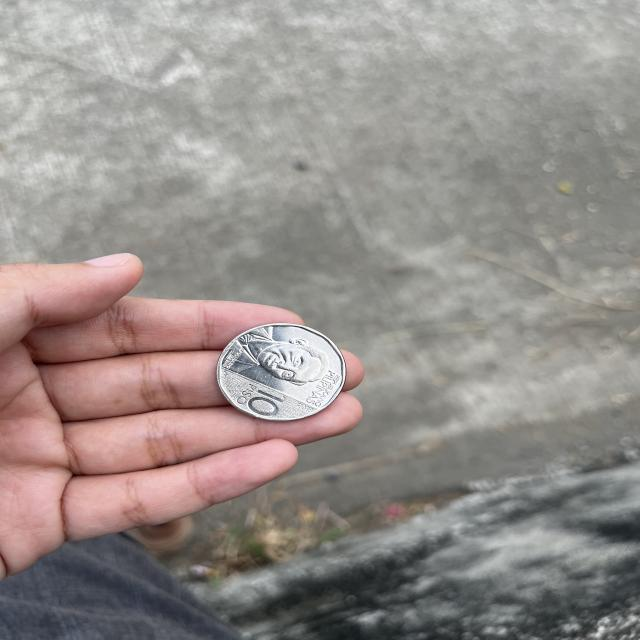10_New_Front: (225, 378, 295, 421)
